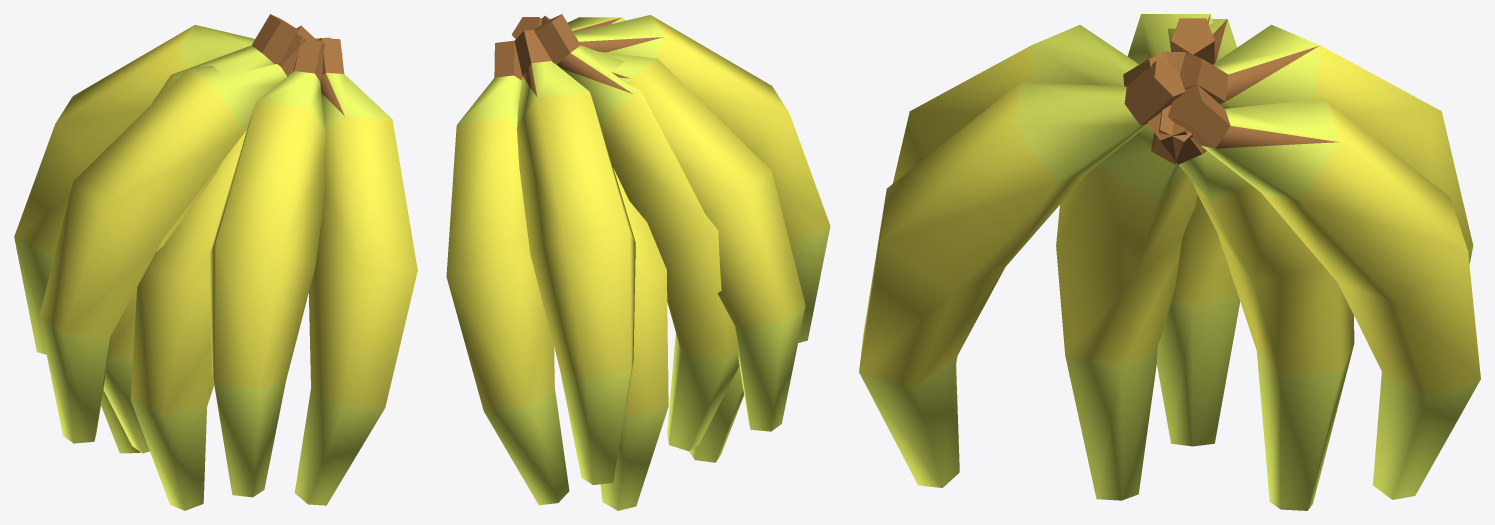
File: pisang.fbx
3 views of the same model, side by side, from view 1: azimuth 30°, elevation 25°; view 2: azimuth 150°, elevation 25°; view 3: azimuth 270°, elevation 25° (orthographic). The views are drawn at different scales.
Visible parts, largest first — view 1: Gruppe#26.009; view 2: Gruppe#26.009; view 3: Gruppe#26.009.
Boxes of the visible parts, x1,y1,x2,y2 form: Gruppe#26.009: (14, 14, 417, 510); Gruppe#26.009: (446, 14, 830, 510); Gruppe#26.009: (859, 14, 1480, 510).
Bounding box in the file's own units: 18.87 × 26.55 × 27.06.
